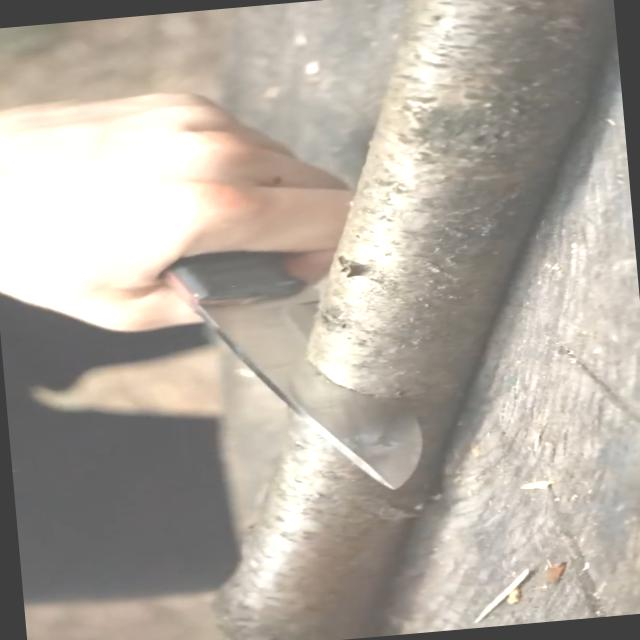knife: (86, 66, 442, 520)
